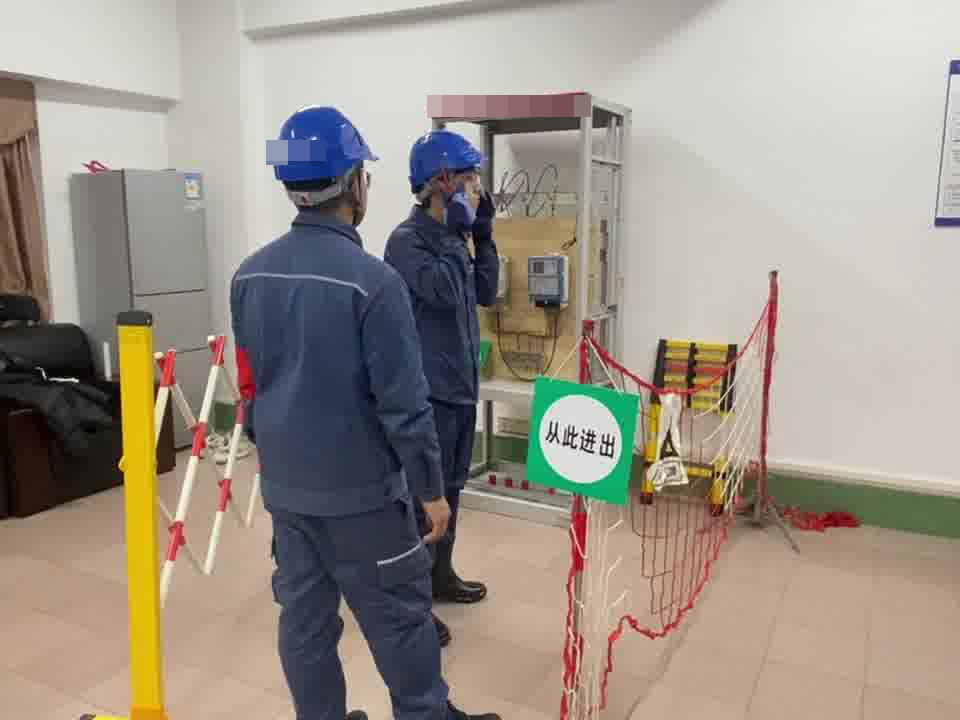badge: (237, 352, 259, 399)
downsuit: (269, 522, 461, 720), (428, 410, 475, 499)
glove: (445, 194, 476, 240), (477, 189, 499, 235)
halt: (272, 104, 381, 220), (408, 129, 487, 208)
hand: (423, 495, 454, 543)
intosign: (536, 378, 633, 496)
person: (225, 102, 476, 720)
shoe: (415, 511, 489, 629)
upsuit: (229, 225, 421, 509), (392, 206, 490, 406)
